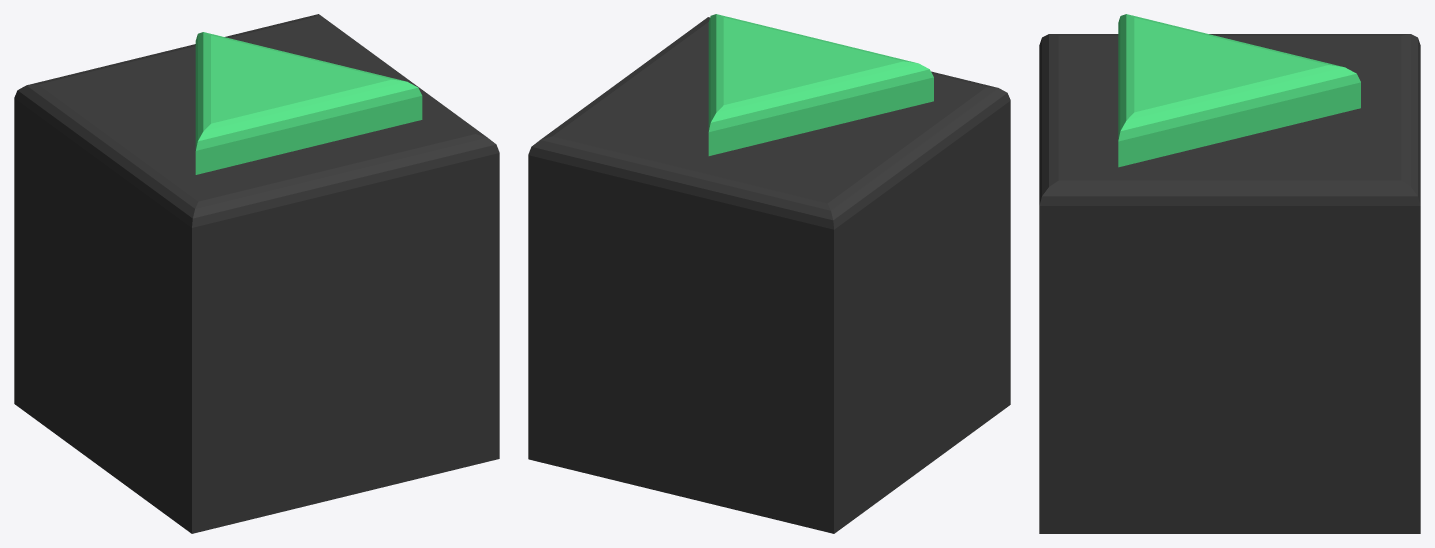
The model's file is block_button_triangle.fbx.
The picture shows the model from 3 angles, left to right: view 1: azimuth 30°, elevation 25°; view 2: azimuth 150°, elevation 25°; view 3: azimuth 270°, elevation 25°; orthographic projection. The views are drawn at different scales.
Visible parts, largest first — view 1: Cube, Circle; view 2: Cube, Circle; view 3: Cube, Circle.
Boxes of the visible parts, bbox=[...] form: Cube: bbox=[14, 14, 499, 533]; Circle: bbox=[195, 32, 422, 174]; Cube: bbox=[528, 17, 1010, 533]; Circle: bbox=[708, 14, 933, 155]; Cube: bbox=[1039, 34, 1420, 533]; Circle: bbox=[1118, 14, 1360, 167].
Size of the model in its own units: 200 by 225 by 200.
